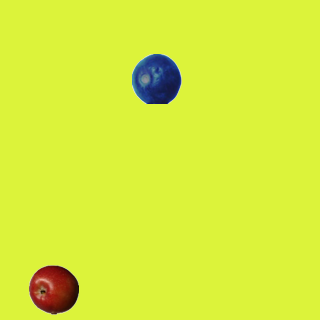Apple Braeburn: (28, 264, 78, 314)
Huckleberry: (131, 53, 181, 103)
